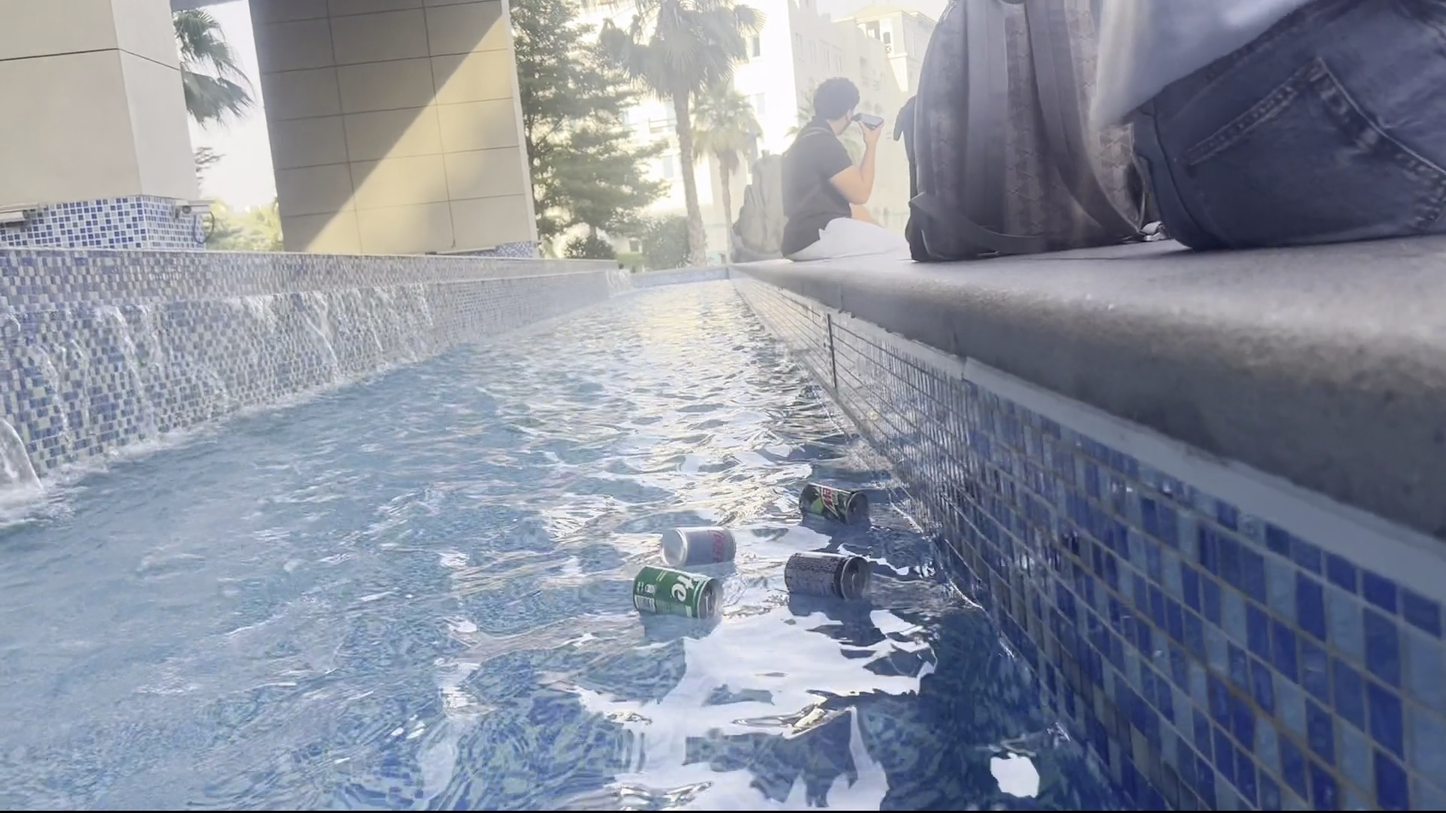debris: (776, 541, 874, 611), (626, 557, 727, 620), (654, 511, 739, 571), (789, 474, 875, 531)
